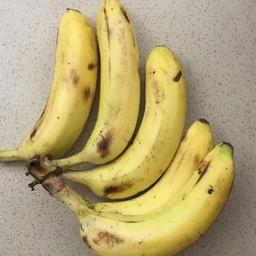Banana Ripe: (37, 144, 248, 256), (77, 35, 189, 201), (62, 0, 142, 207), (10, 3, 95, 175), (74, 118, 219, 216)
